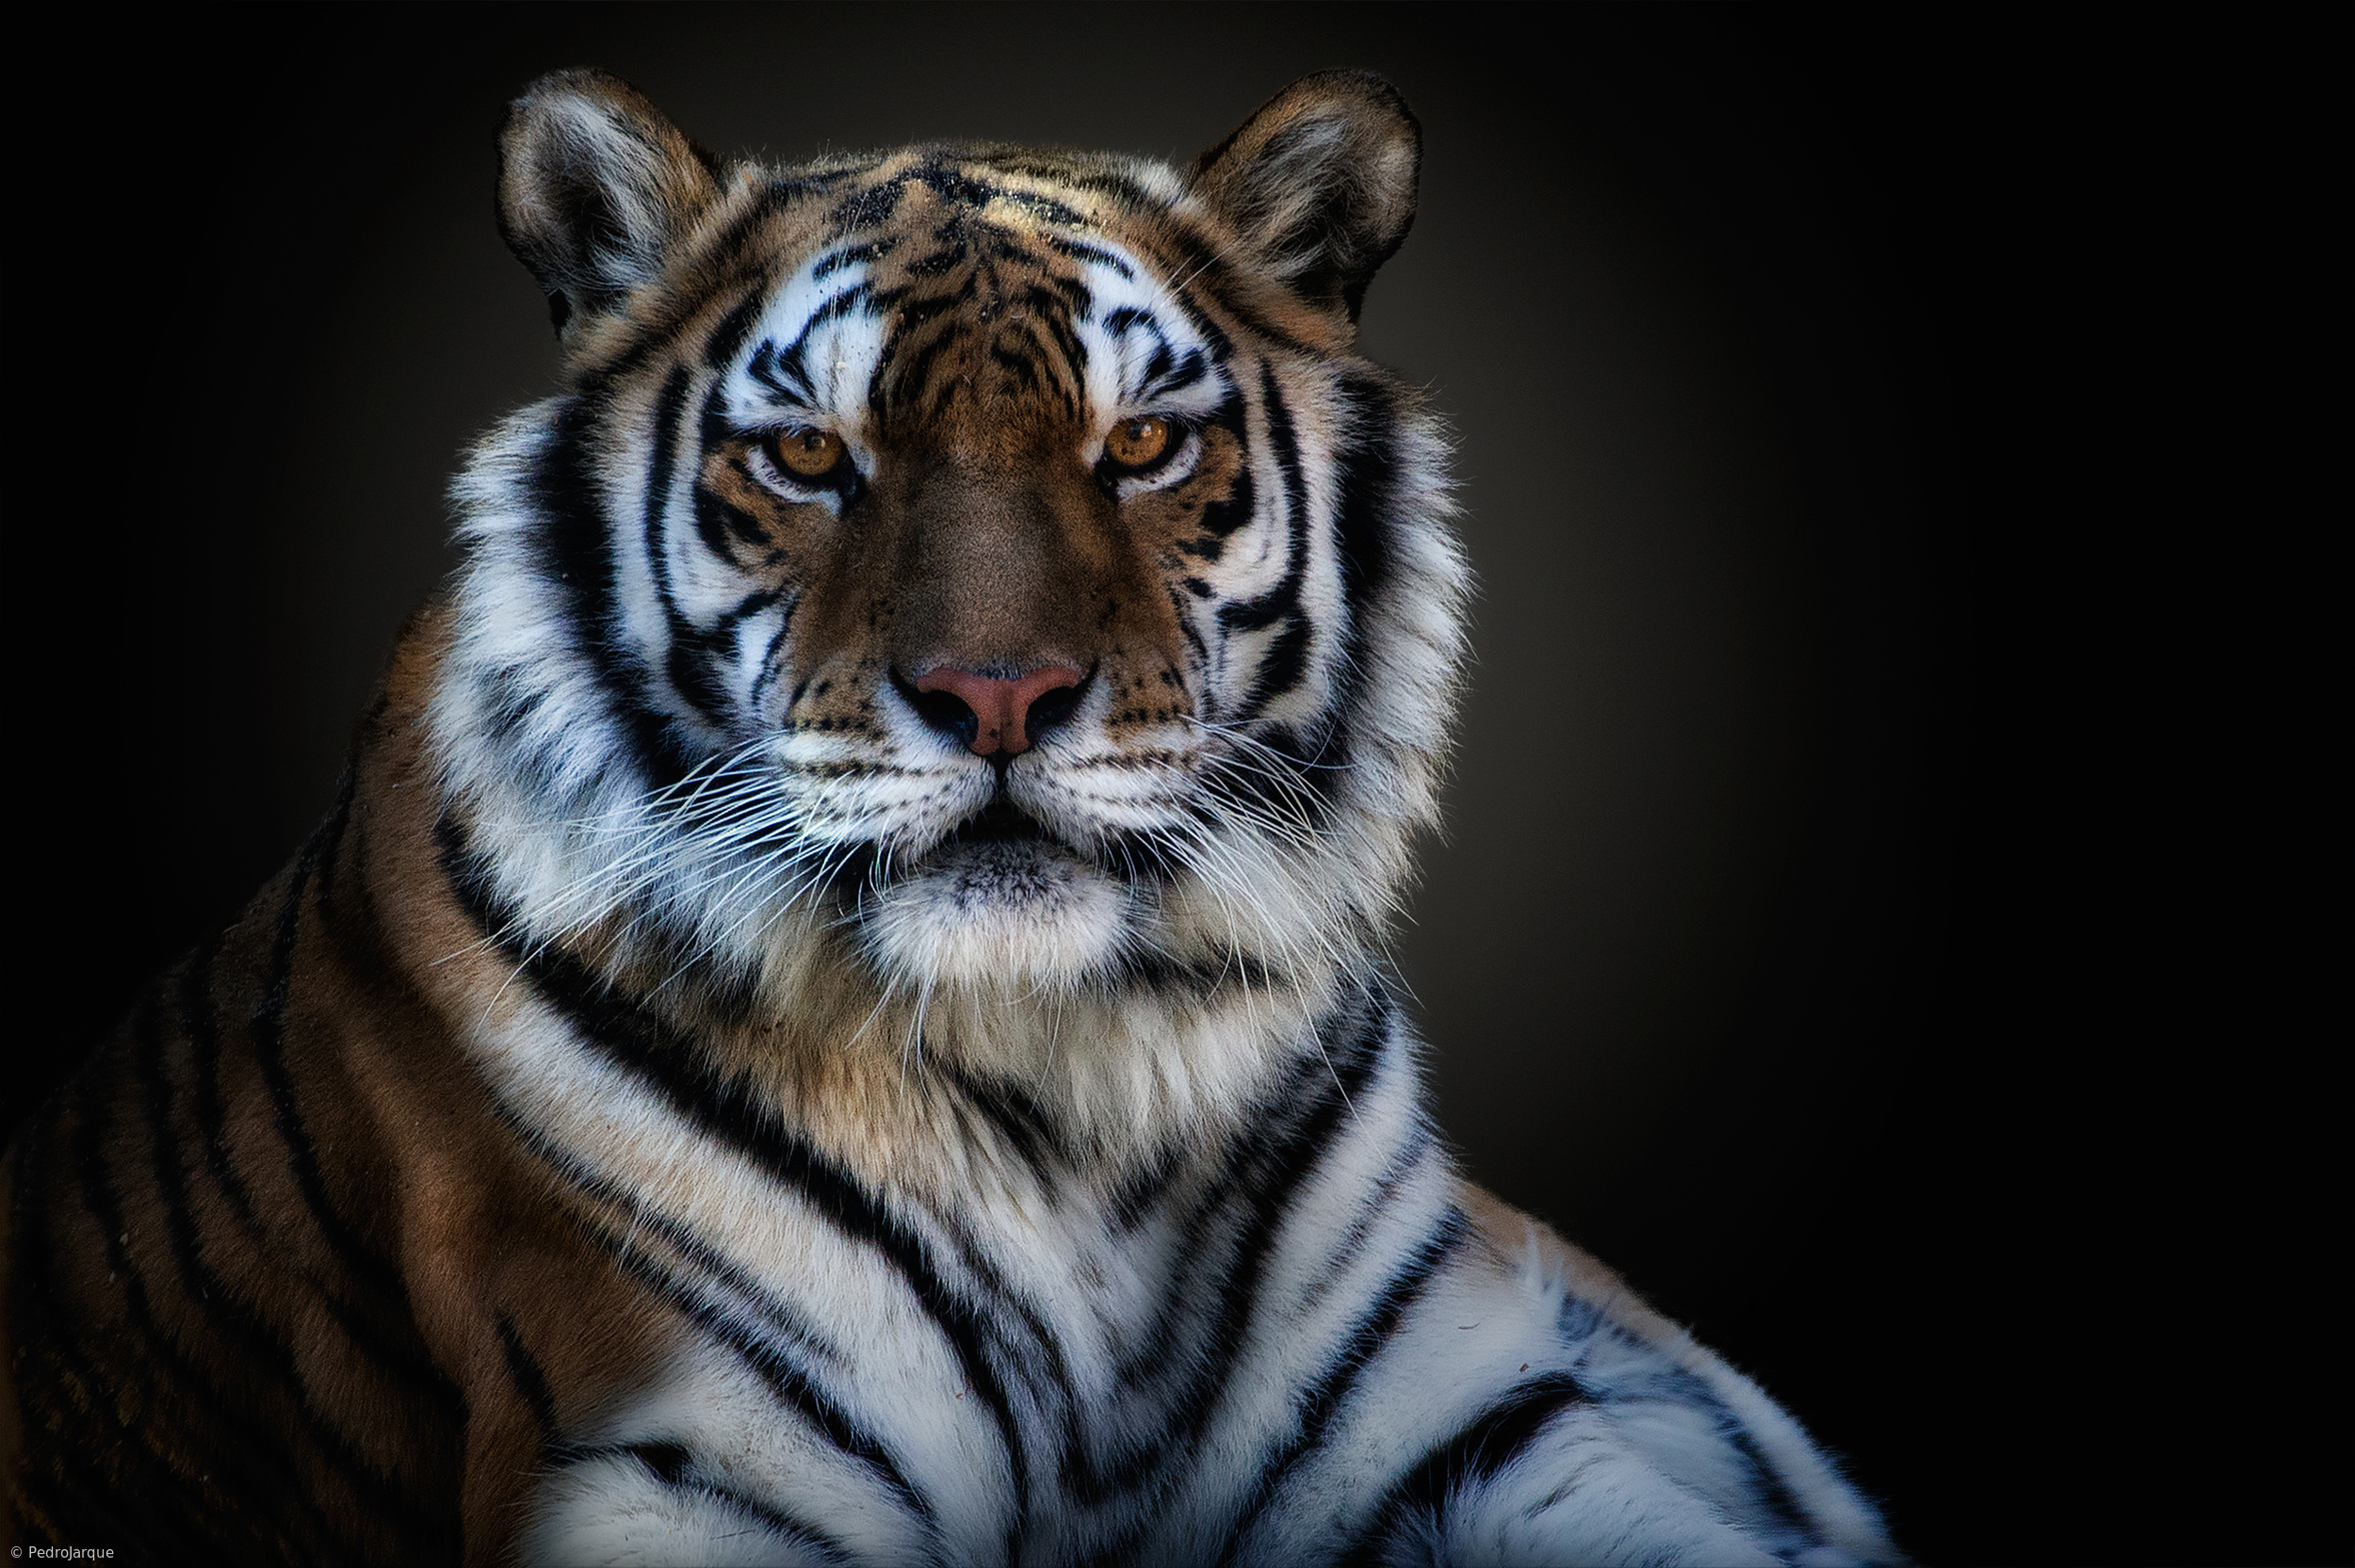tiger: (79, 51, 1849, 1489)
